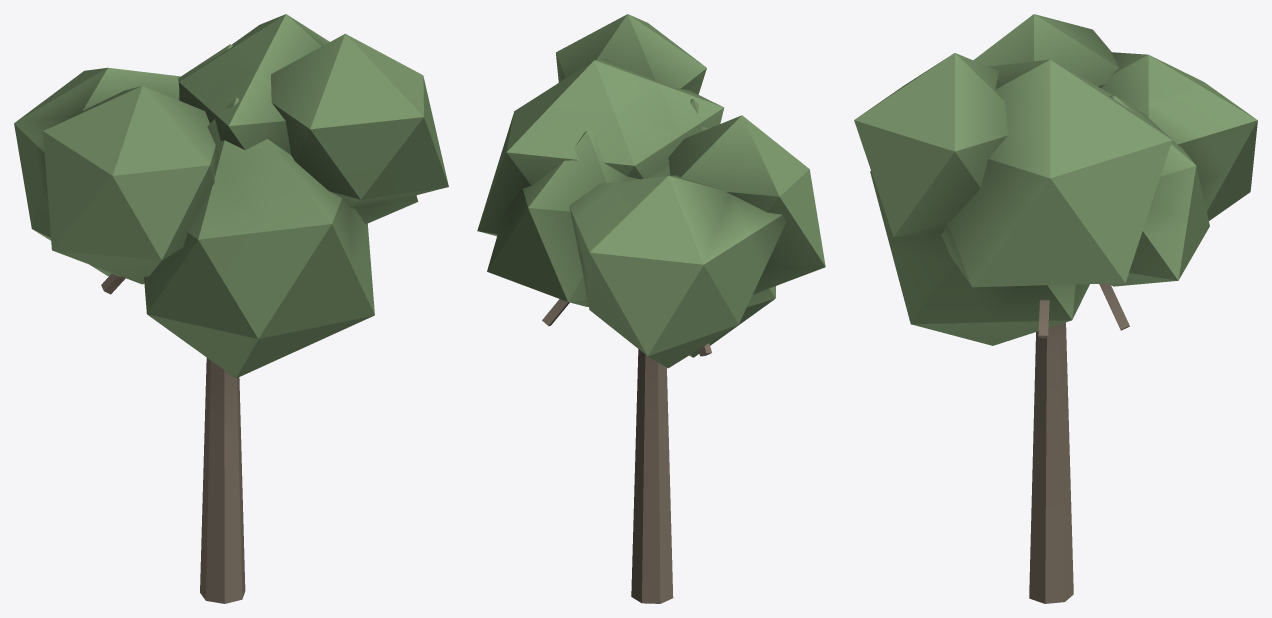
Rendered from arvore_1.glb.
The picture shows the model from 3 angles, left to right: view 1: azimuth 30°, elevation 25°; view 2: azimuth 150°, elevation 25°; view 3: azimuth 270°, elevation 25°; orthographic projection. The views are drawn at different scales.
Visible parts, largest first — view 1: copa, tronco; view 2: copa, tronco; view 3: copa, tronco, galhos.
Boxes of the visible parts, x1,y1,x2,y2 form: copa: (14, 14, 448, 378); tronco: (200, 358, 245, 603); copa: (477, 14, 825, 368); tronco: (631, 349, 673, 603); copa: (854, 14, 1257, 345); tronco: (1029, 322, 1073, 603); galhos: (1038, 283, 1129, 338).
Size of what is drawn, in the model's own units: 3.98 by 6.55 by 4.15.
